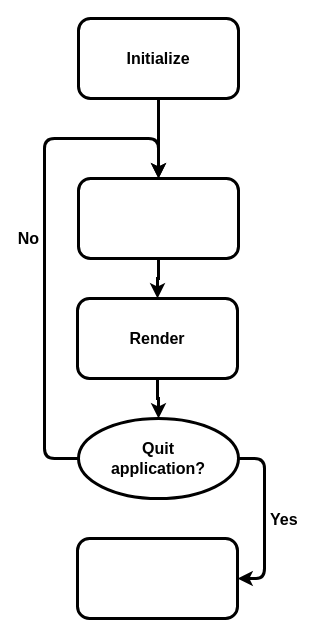
The diagram is 315 pixels wide and 637 high, and some of its shapes have lost their labels. Each missing label, with the centre of its shape:
"De-initialize" belongs at pixel 157 578.
"Update" belongs at pixel 158 218.
